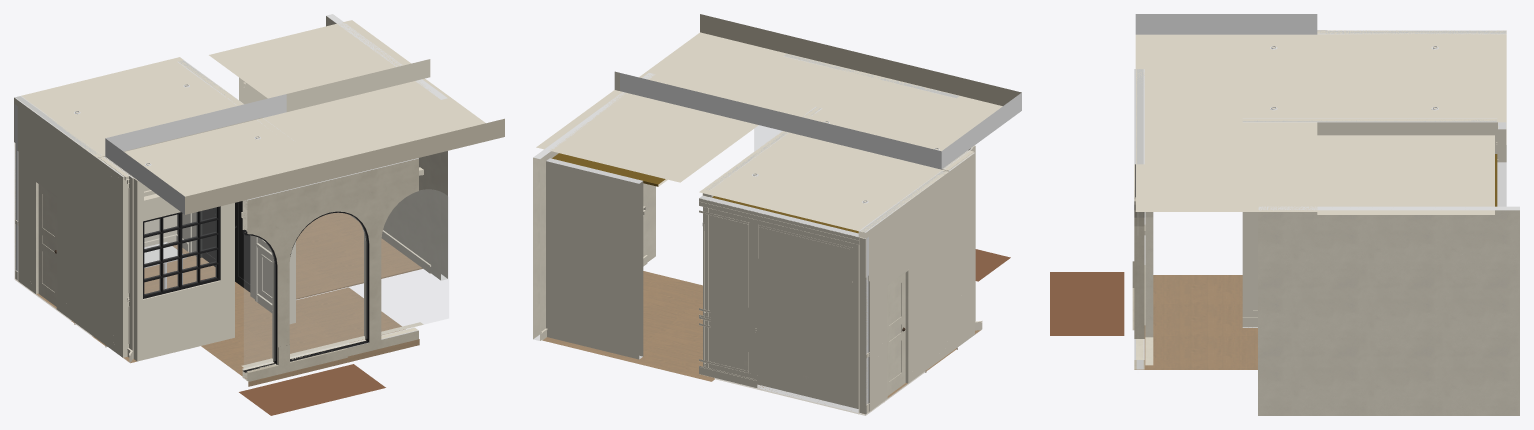
File: office-west-2c608897d7b9.glb
3 views of the same model, side by side, from view 1: azimuth 30°, elevation 25°; view 2: azimuth 150°, elevation 25°; view 3: azimuth 270°, elevation 25° (orthographic). The views are drawn at different scales.
Parts seen in each view (by area): view 1: office-west-look-dbd60ee5c3733ed6, office-west-6a051330000fbca1, office-west-look-c9e78b9ec1bb39cd, office-west-look-2575515a05775d9e, office-west-2575515a05775d9e, office-west-look-c02a36d0521470a9, office-west-a822d30aa9e2c55a, office-west-look-5cbcc744e6f960f3, office-west-look-c374268555806af8, office-west-look-3b0077416469e01b, office-west-look-6a1144f4e43410bb, office-west-dbd60ee5c3733ed6 (+17 smaller); view 2: office-west-look-dbd60ee5c3733ed6, office-west-19647d6da46c2b80, office-west-6a051330000fbca1, office-west-look-19647d6da46c2b80, office-west-2575515a05775d9e, office-west-look-2575515a05775d9e, office-west-look-3b0077416469e01b, office-west-look-6a1144f4e43410bb, office-west-80d276f58a4dc5cb, office-west-dbd60ee5c3733ed6, office-west-7b51444cc162b982, office-west-72f8f5982ac3dc36 (+9 smaller); view 3: office-west-look-6a1144f4e43410bb, office-west-look-dbd60ee5c3733ed6, office-west-2575515a05775d9e, office-west-look-2575515a05775d9e, office-west-look-c374268555806af8, office-west-dbd60ee5c3733ed6, office-west-look-aee2d046b0172b1e, office-west-72f8f5982ac3dc36, office-west-look-c9e78b9ec1bb39cd, office-west-0811b6b476584948, office-west-look-e54cb06e326b7f4f, office-west-6a051330000fbca1 (+5 smaller).
Boxes of the visible parts, box(x1,y1,x2,y2) form: office-west-look-dbd60ee5c3733ed6: box(105, 78, 504, 214); office-west-6a051330000fbca1: box(14, 96, 133, 358); office-west-look-c9e78b9ec1bb39cd: box(242, 158, 418, 380); office-west-look-2575515a05775d9e: box(209, 20, 430, 111); office-west-2575515a05775d9e: box(21, 57, 263, 158); office-west-look-c02a36d0521470a9: box(290, 213, 367, 356); office-west-a822d30aa9e2c55a: box(133, 141, 285, 361); office-west-look-5cbcc744e6f960f3: box(381, 189, 448, 334); office-west-look-c374268555806af8: box(201, 287, 419, 386); office-west-look-3b0077416469e01b: box(296, 212, 422, 299); office-west-look-6a1144f4e43410bb: box(326, 14, 447, 280); office-west-dbd60ee5c3733ed6: box(105, 119, 295, 179); office-west-look-dbd60ee5c3733ed6: box(620, 14, 1021, 168); office-west-19647d6da46c2b80: box(699, 195, 859, 412); office-west-6a051330000fbca1: box(858, 148, 974, 413); office-west-look-19647d6da46c2b80: box(546, 158, 643, 359); office-west-2575515a05775d9e: box(699, 131, 948, 232); office-west-look-2575515a05775d9e: box(536, 71, 758, 182); office-west-look-3b0077416469e01b: box(542, 271, 714, 381); office-west-look-6a1144f4e43410bb: box(533, 73, 655, 340); office-west-80d276f58a4dc5cb: box(887, 273, 905, 395); office-west-dbd60ee5c3733ed6: box(782, 112, 974, 169); office-west-7b51444cc162b982: box(699, 198, 859, 244); office-west-72f8f5982ac3dc36: box(703, 107, 822, 367); office-west-look-6a1144f4e43410bb: box(1258, 206, 1519, 415); office-west-look-dbd60ee5c3733ed6: box(1135, 14, 1317, 211); office-west-2575515a05775d9e: box(1317, 30, 1506, 122); office-west-look-2575515a05775d9e: box(1317, 135, 1494, 214); office-west-look-c374268555806af8: box(1134, 275, 1257, 369); office-west-dbd60ee5c3733ed6: box(1242, 34, 1317, 118); office-west-look-aee2d046b0172b1e: box(1050, 272, 1124, 335); office-west-72f8f5982ac3dc36: box(1242, 118, 1498, 327); office-west-look-c9e78b9ec1bb39cd: box(1134, 69, 1144, 369); office-west-0811b6b476584948: box(1317, 122, 1497, 130); office-west-look-e54cb06e326b7f4f: box(1145, 212, 1153, 365); office-west-6a051330000fbca1: box(1317, 30, 1506, 162).
Bounding box in the file's own units: 5.77 × 3.4 × 6.21.
27 materials, 5 textured.
